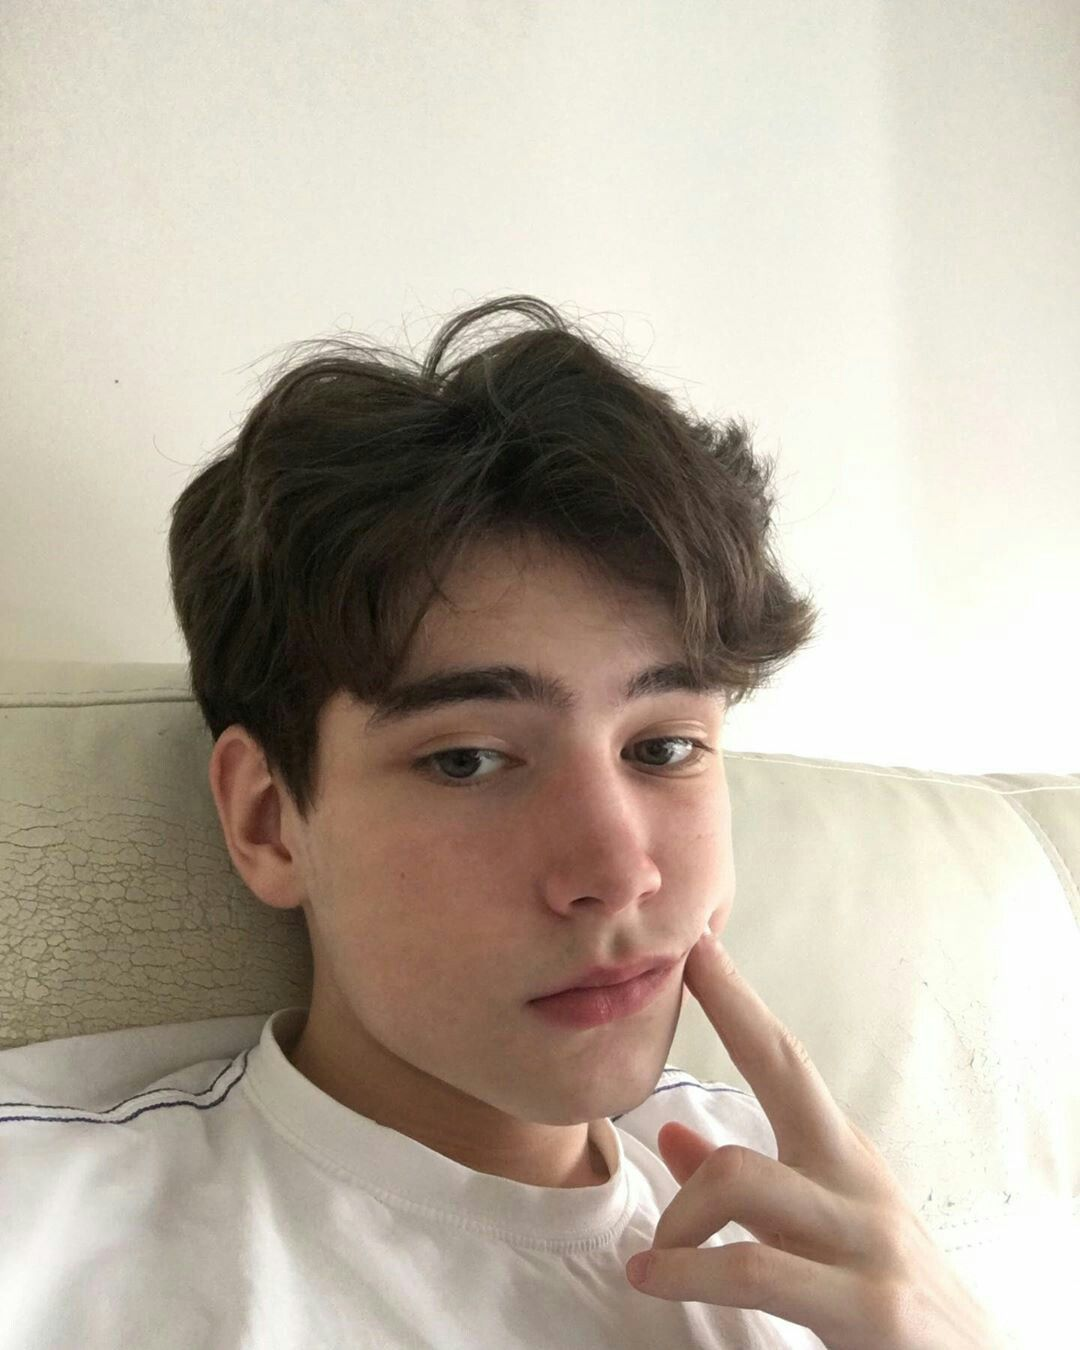BOY: (210, 387, 740, 1111)
